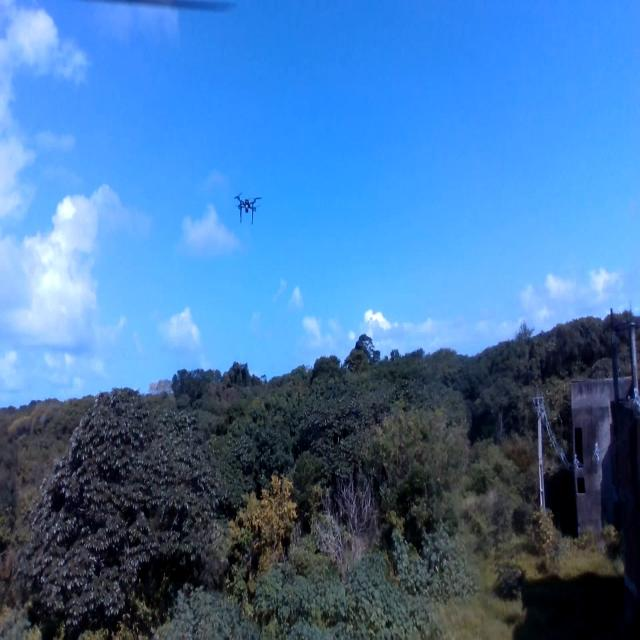-uav-: (230, 182, 264, 234)
